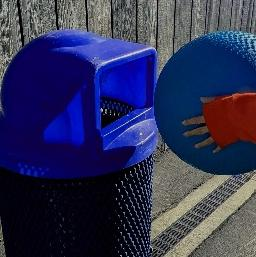algae: (158, 30, 256, 180)
